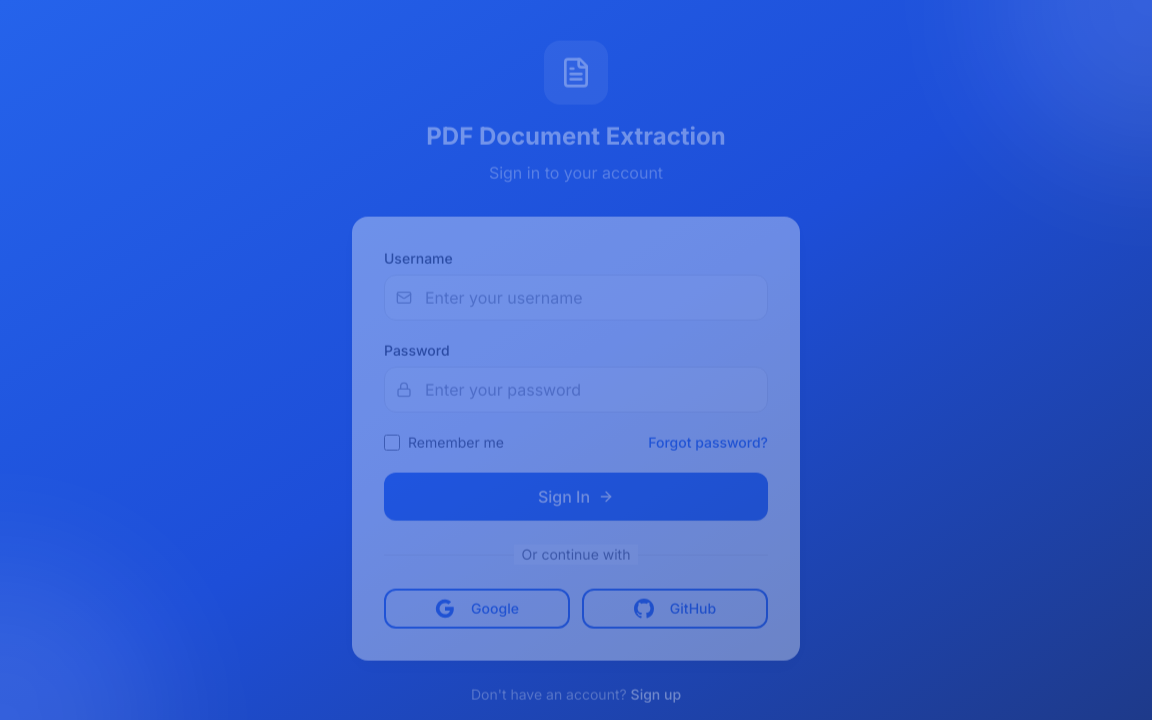
Test: LoginPage › Successful Login › shows loading state during login
In the field labelled "Username": (576, 298) [384,275,768,321], type "testuser"
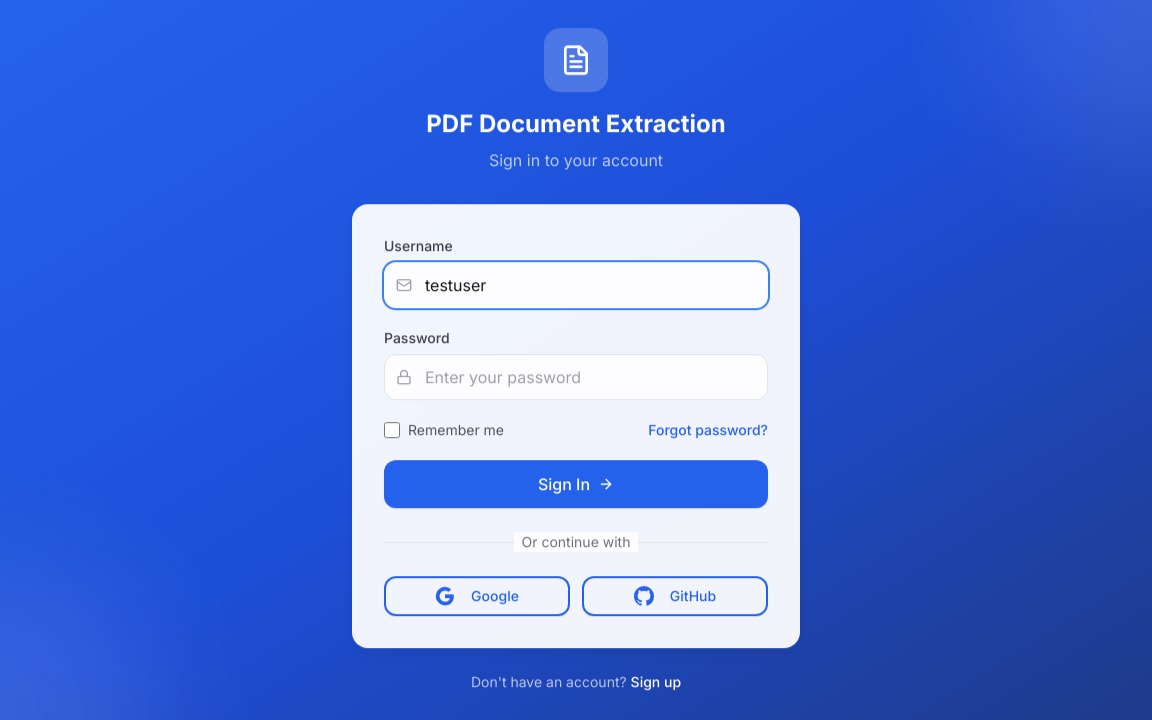
In the password field labelled "Password": (576, 377) [384,354,768,400], type "password123"
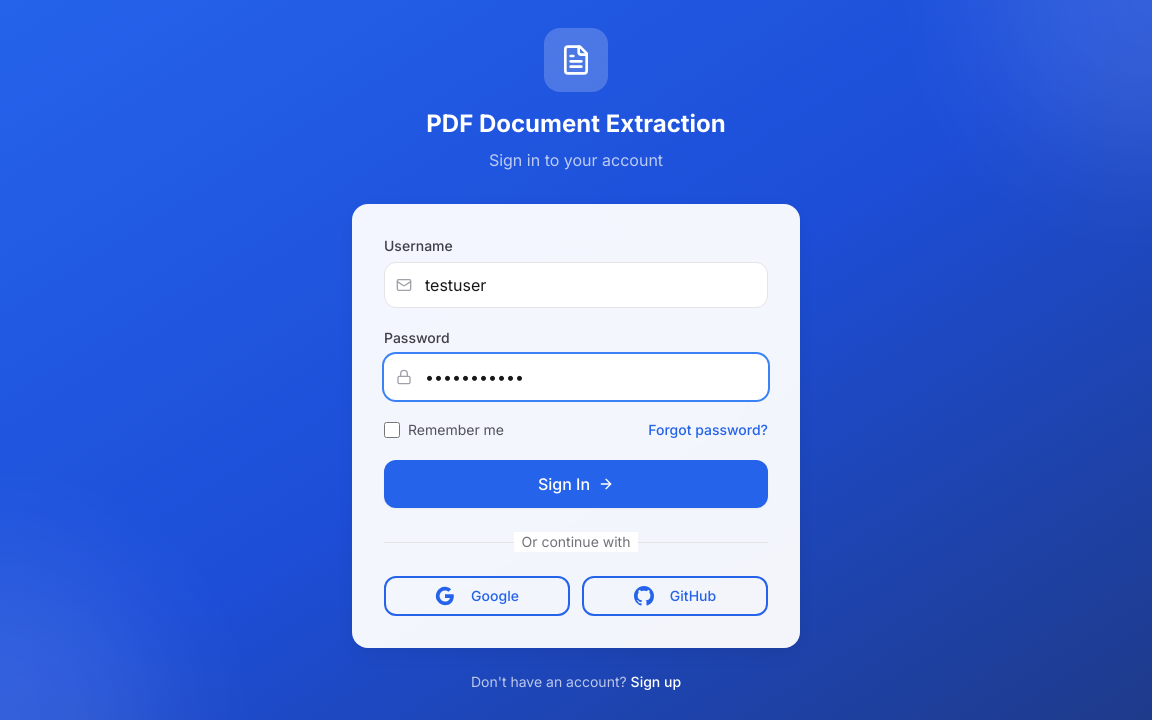
Click the button "Sign In": (576, 484) [384,460,768,508]
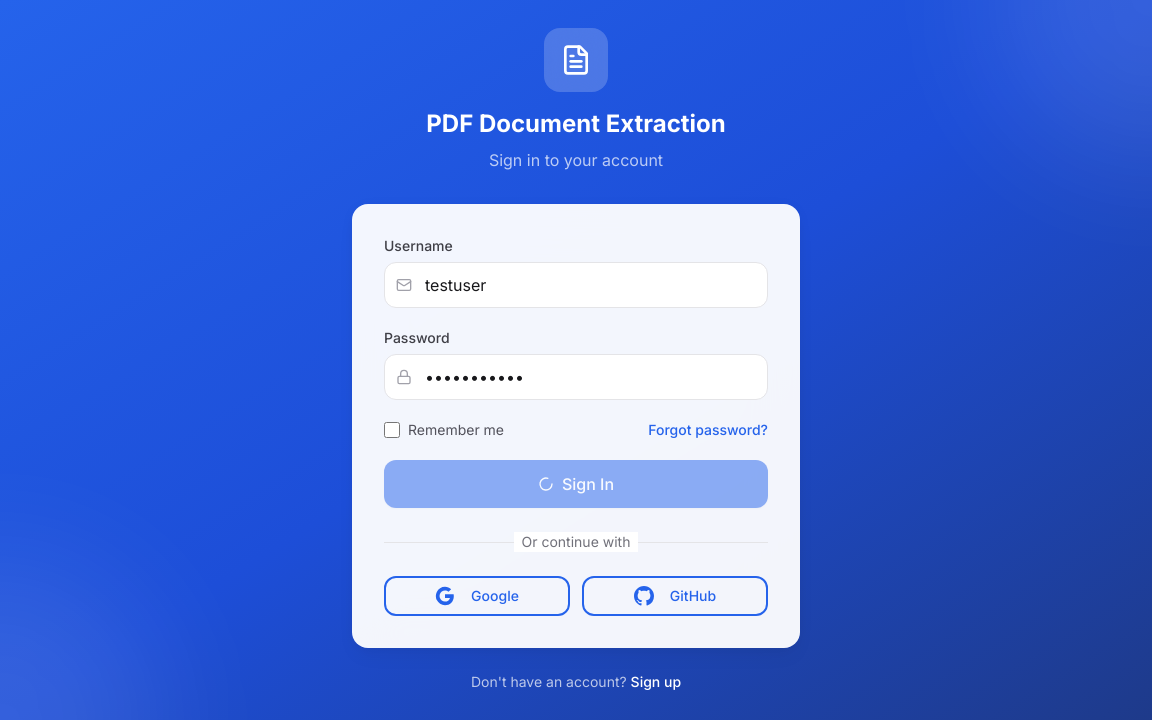
Check: the button "Sign In" is disabled, box [384,460,768,508]
